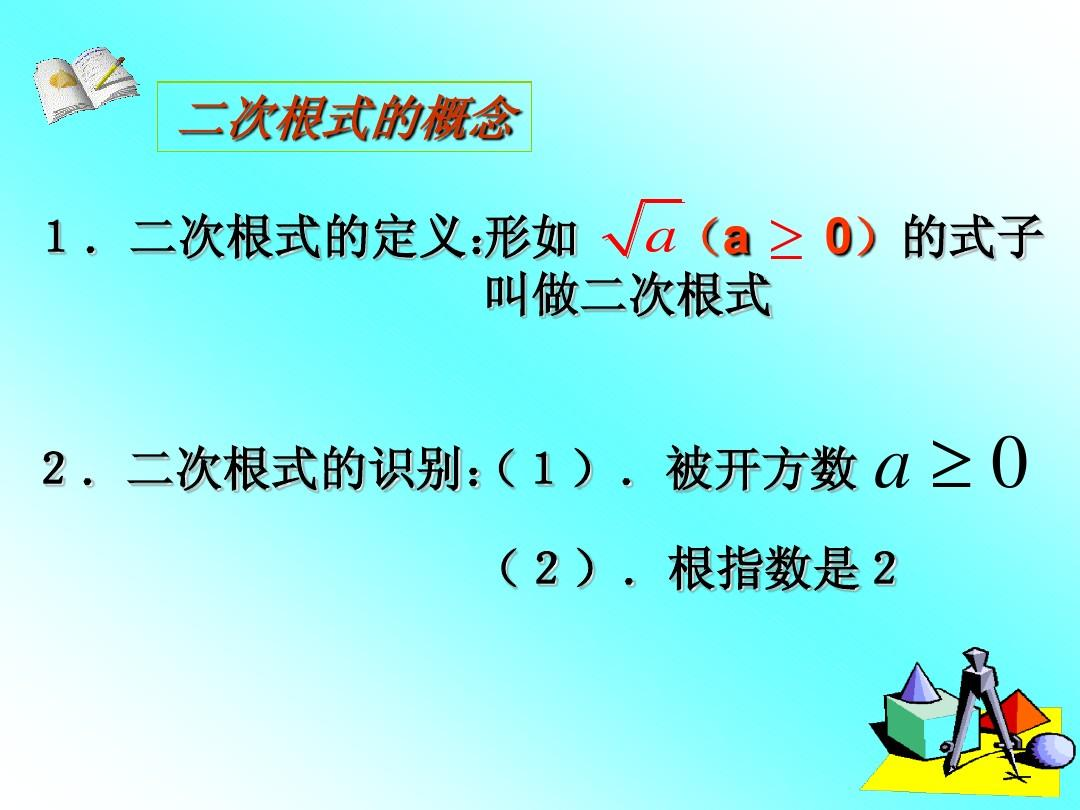sqrt: (604, 194, 688, 258)
